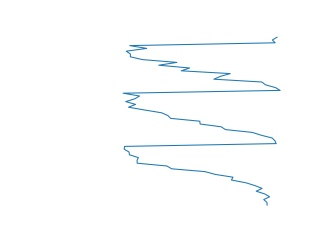distributaryMouthBar: (119, 34, 283, 209)
